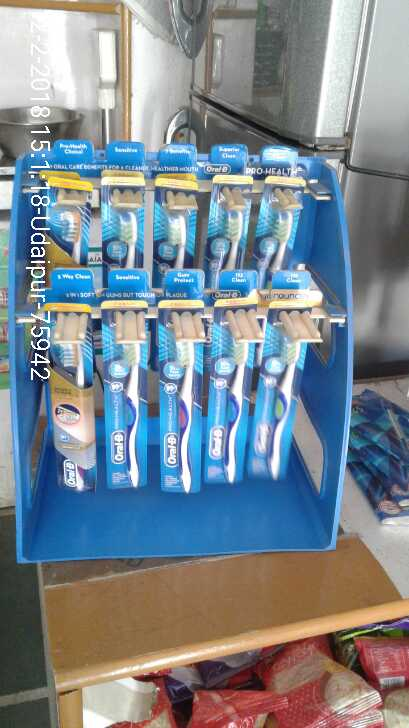oralb: (39, 303, 97, 494), (99, 302, 150, 488), (154, 310, 205, 493), (214, 310, 255, 485), (262, 308, 293, 485)
